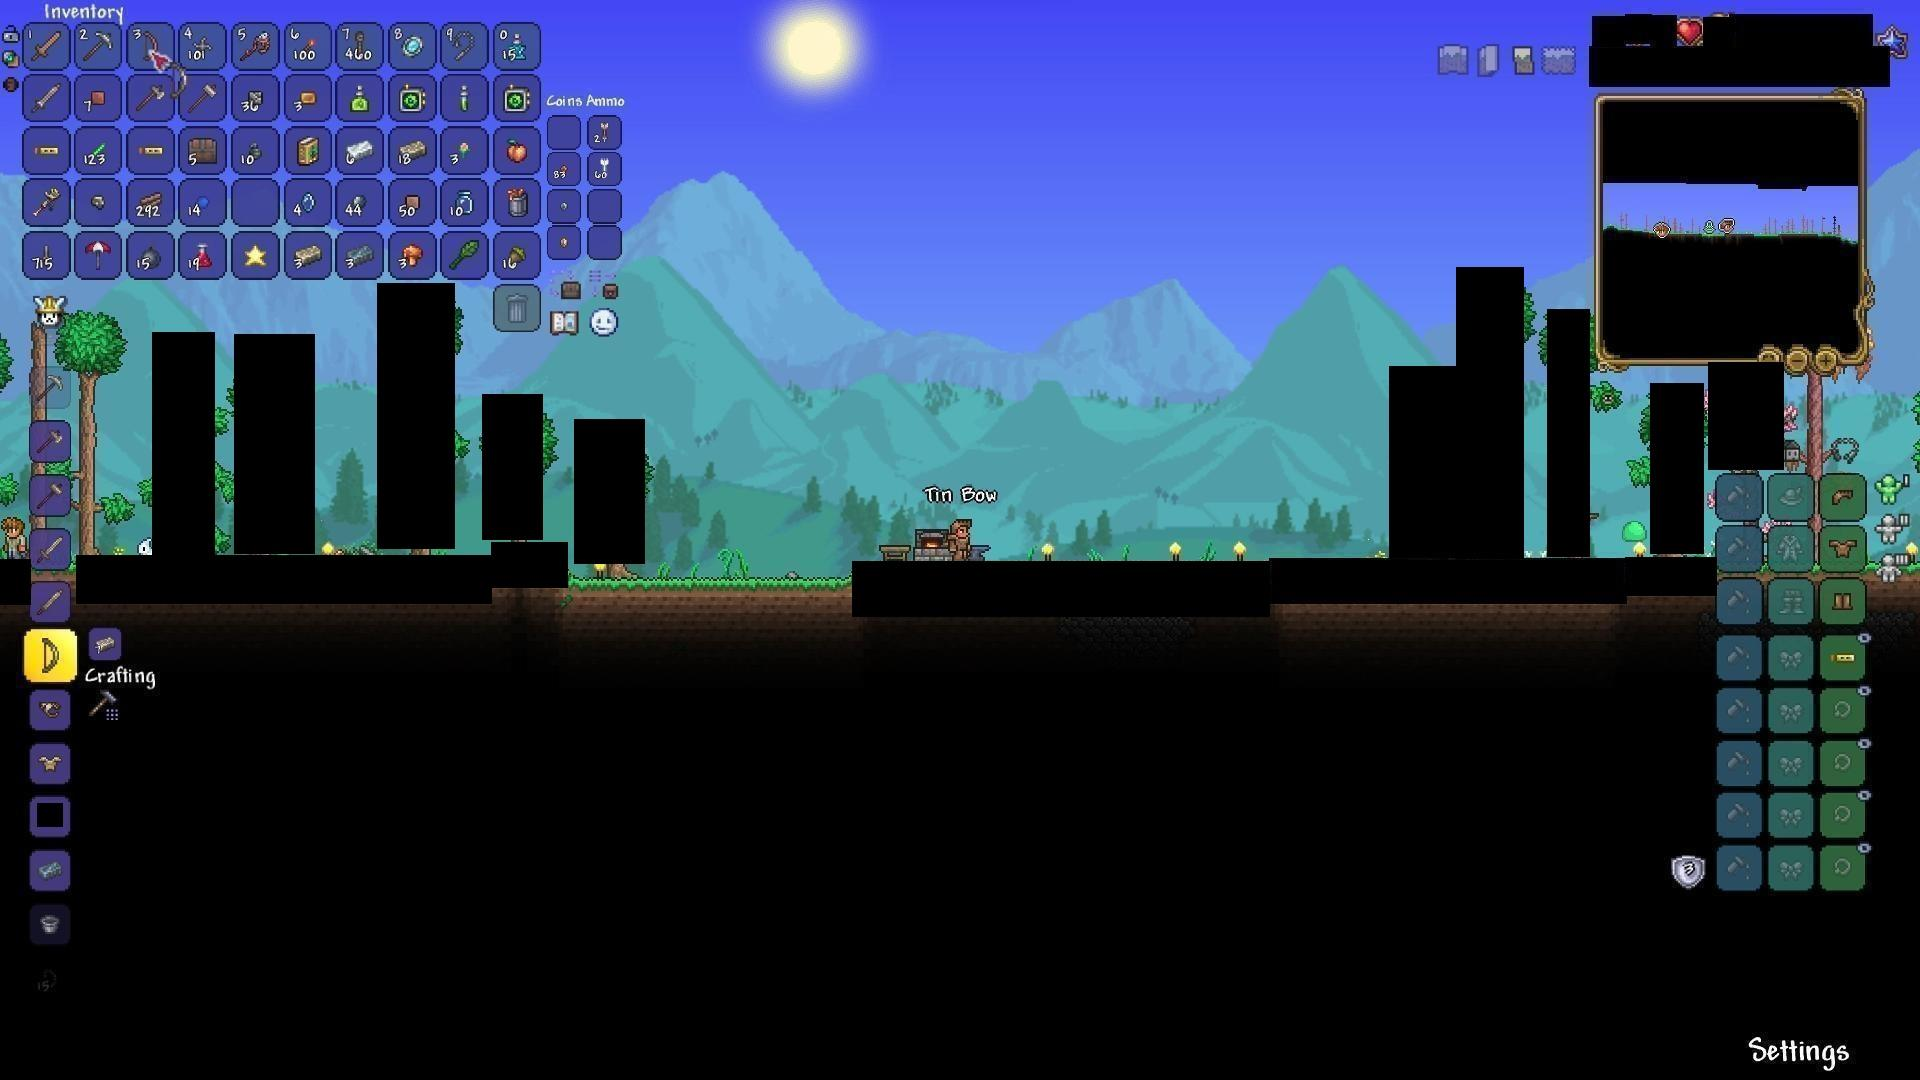breastplate: (36, 752, 65, 774), (1832, 538, 1859, 558)
dirt: (568, 568, 845, 628)
heart: (1676, 15, 1704, 50)
helmet: (37, 698, 65, 721), (1830, 485, 1857, 508)
legs: (1830, 589, 1857, 615)
slime: (1615, 521, 1651, 546)
tree: (73, 305, 135, 554)
wood: (135, 186, 165, 215)
workbench: (876, 538, 913, 563)
